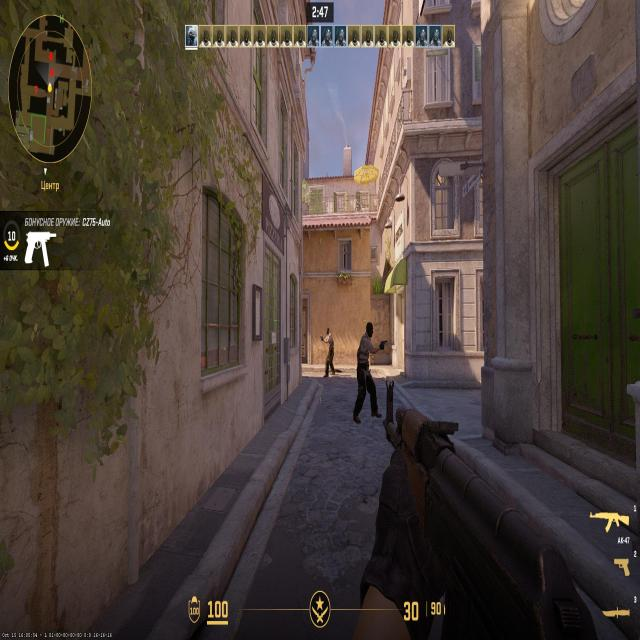T: (362, 326, 378, 418), (326, 328, 333, 374)
T_heat: (367, 323, 372, 342), (327, 328, 331, 338)
